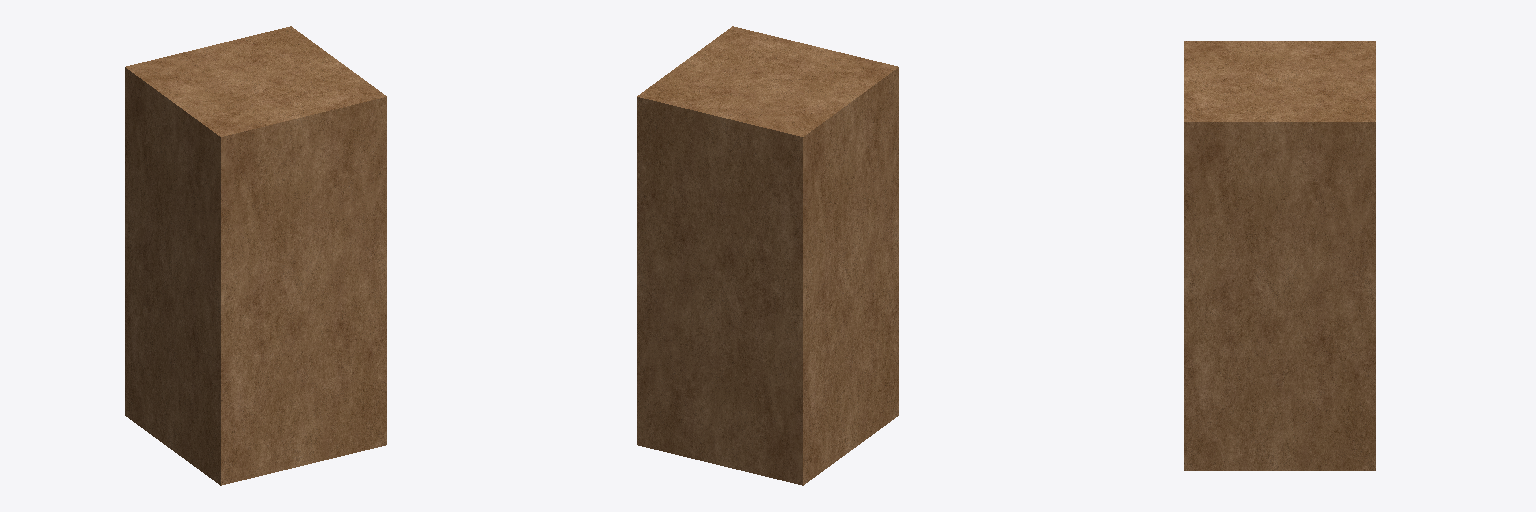
3 renders of one model, left to right at view 1: azimuth 30°, elevation 25°; view 2: azimuth 150°, elevation 25°; view 3: azimuth 270°, elevation 25°, orthographic.
Parts seen in each view (by area): view 1: Cube_Cube; view 2: Cube_Cube; view 3: Cube_Cube.
Boxes of the visible parts, x1=… form: Cube_Cube: x1=125, y1=26, x2=386, y2=485; Cube_Cube: x1=637, y1=26, x2=898, y2=485; Cube_Cube: x1=1184, y1=41, x2=1375, y2=470.
Size of the model in its own units: 1 by 2 by 1.
1 materials, 1 textured.